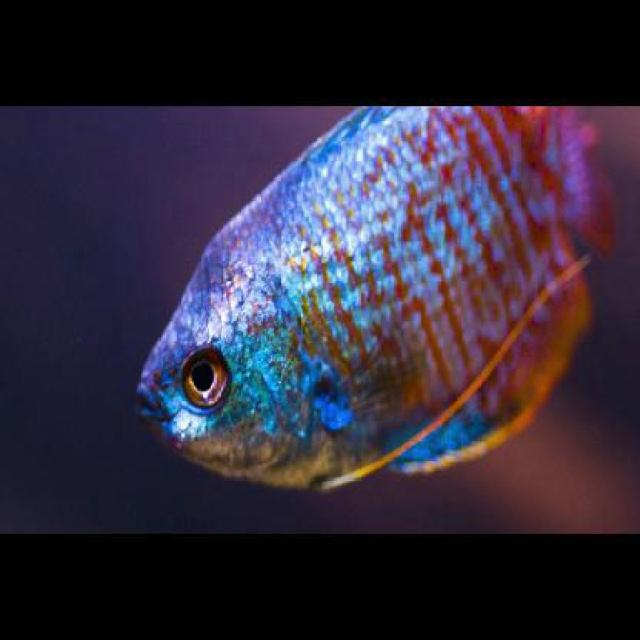Gourami: (141, 105, 616, 492)
